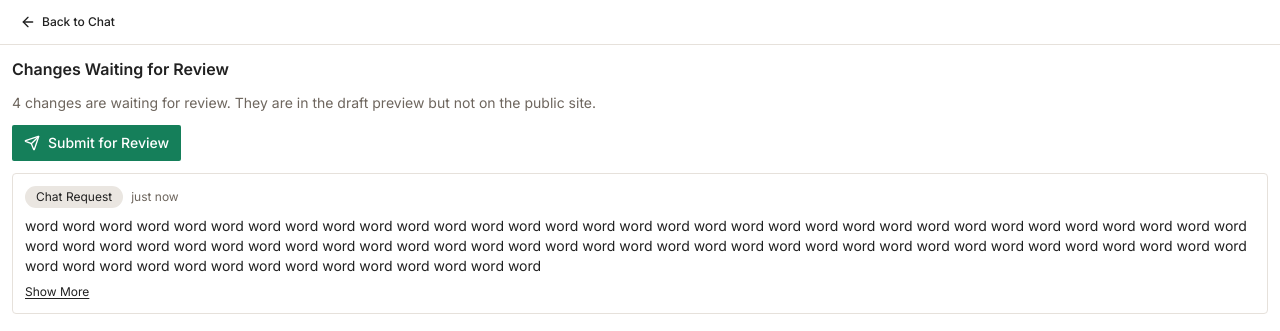
Test: Changes waiting for review › toggles Show More on long requests
Click the button "Show More": point(57, 292) [25,284,89,300]
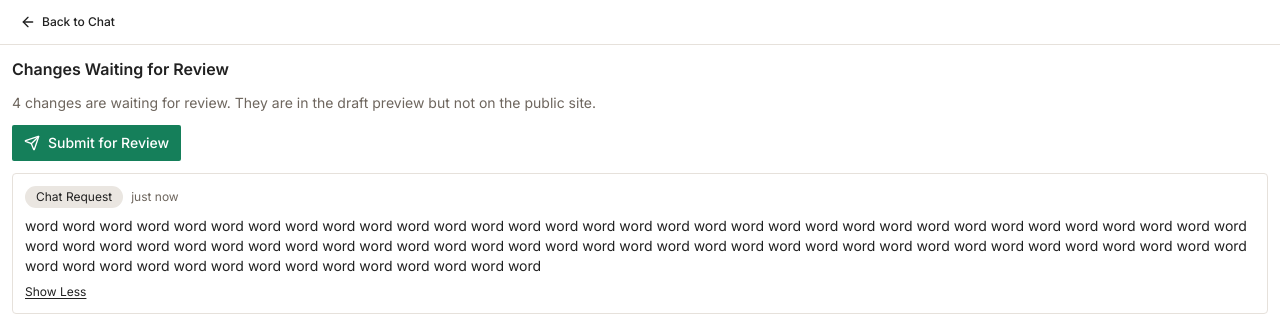
Check: the button "Show Less" is expanded, box [25,284,86,300]
